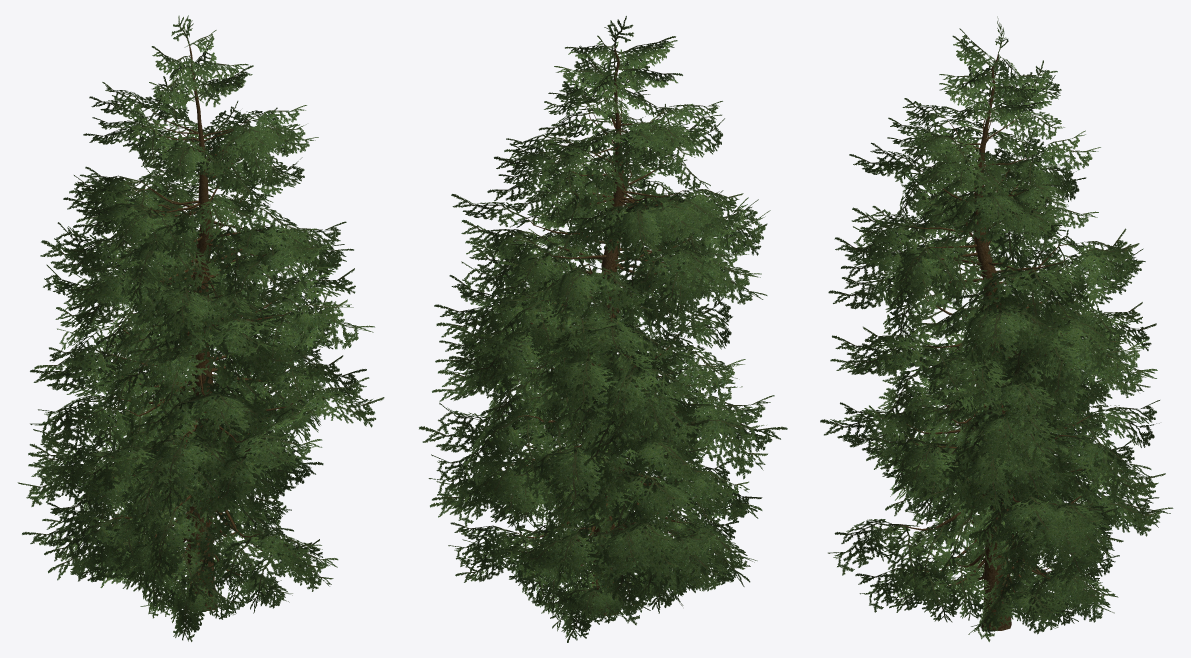
The model's file is baum_fichte_1_lod0.glb.
3 views of the same model, side by side, from view 1: azimuth 30°, elevation 25°; view 2: azimuth 150°, elevation 25°; view 3: azimuth 270°, elevation 25° (orthographic).
Parts seen in each view (by area): view 1: Krone, Stamm; view 2: Krone, Stamm; view 3: Krone, Stamm.
Part boxes in pixels (x1,y1,x2,y2): Krone: [17, 15, 384, 641]; Stamm: [111, 45, 296, 610]; Krone: [419, 16, 787, 642]; Stamm: [511, 46, 692, 615]; Krone: [820, 16, 1173, 641]; Stamm: [900, 54, 1092, 630].
Bounding box in the file's own units: 10.24 × 18 × 9.75.
2 materials, 2 textured.
